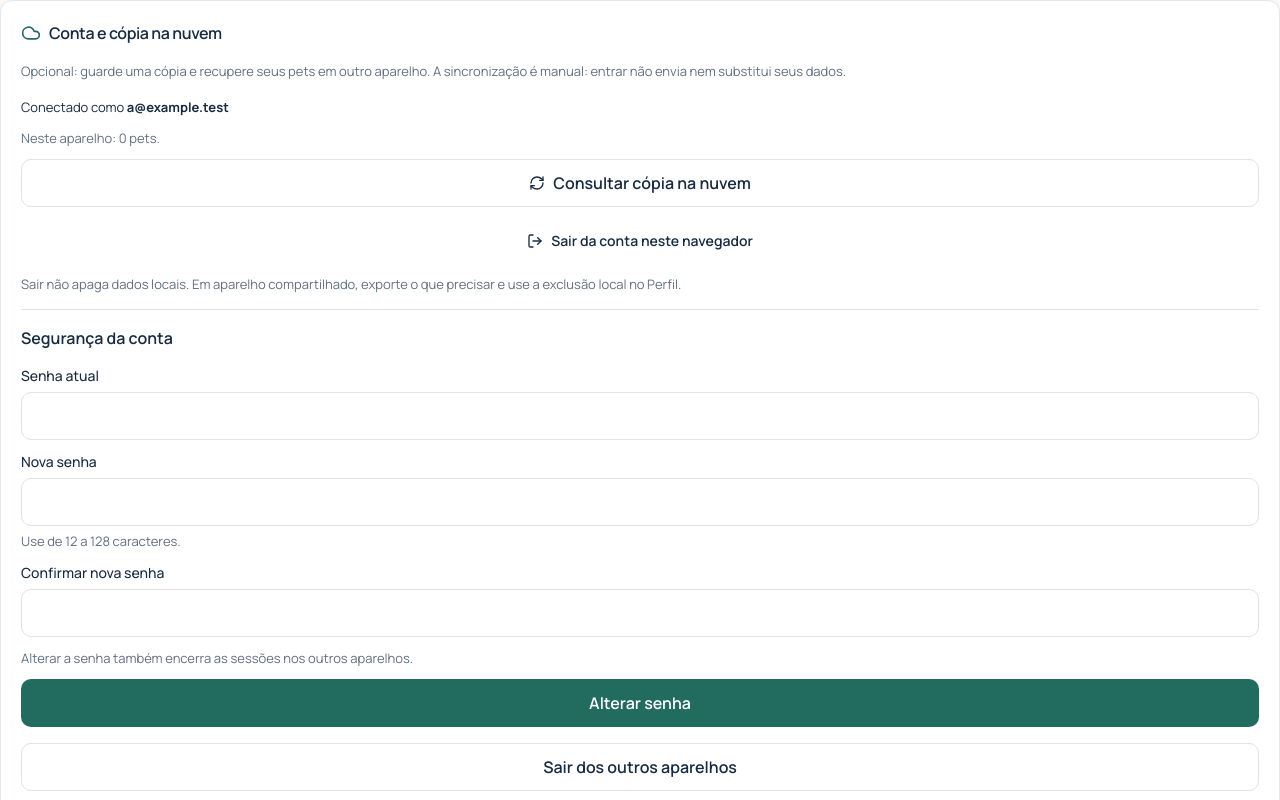
conta Neon opcional › continua saindo com aviso se a desconexão push falhar: pending
Click the button "Sair da conta neste navegador" at (640, 241), box left=21, top=219, right=1259, bottom=263
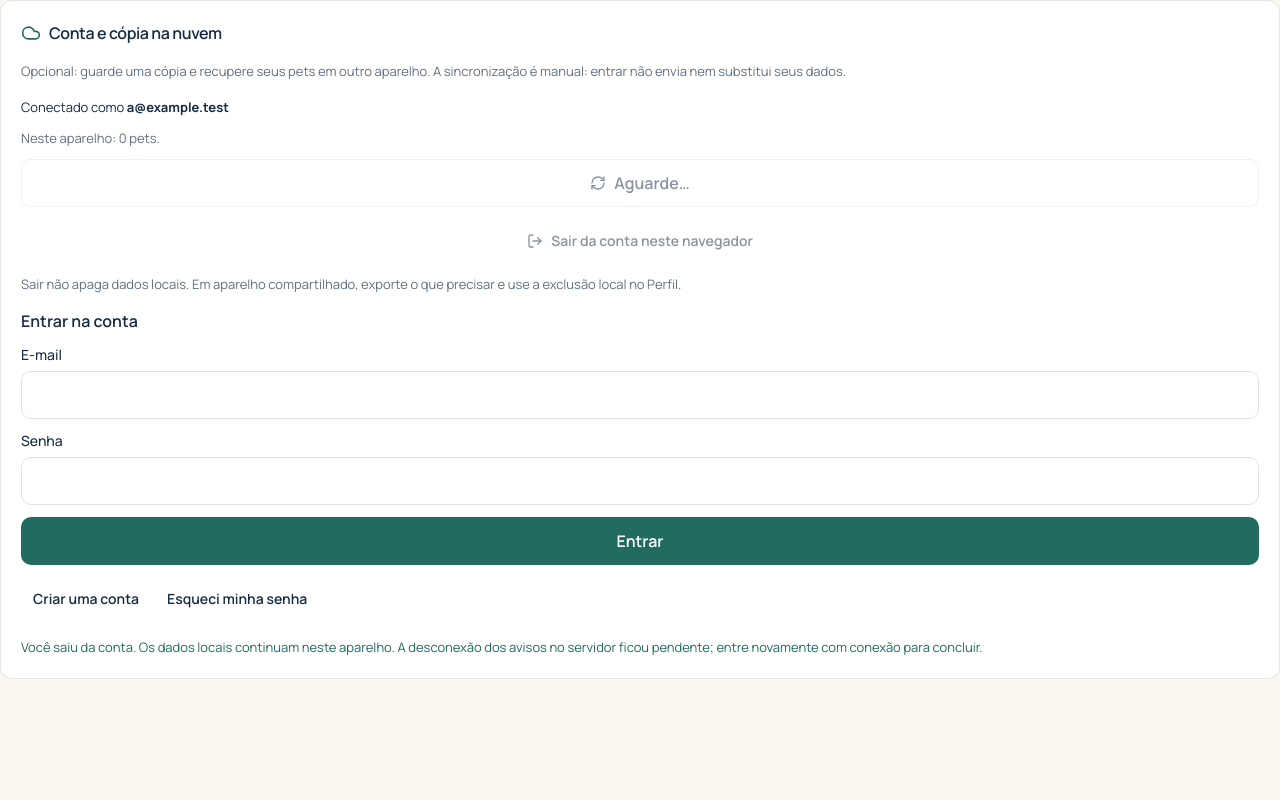
Expected: the message shows "desconexão dos avisos no servidor ficou pendente", left=21, top=638, right=983, bottom=656
